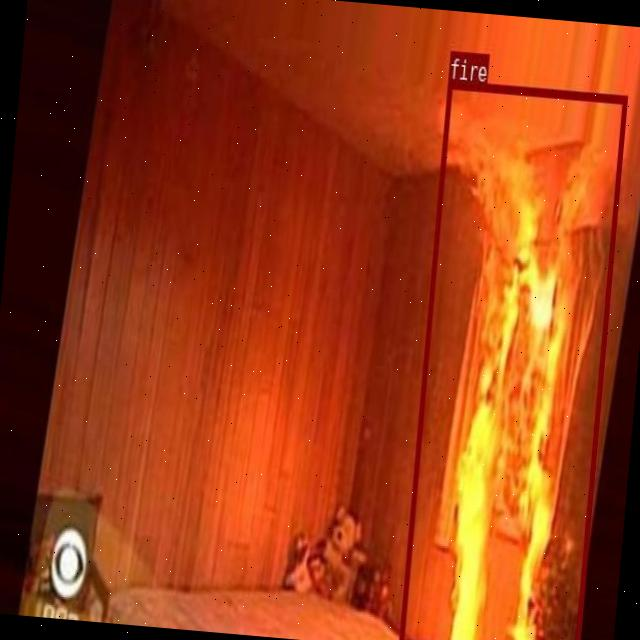fire: (398, 78, 626, 640)
